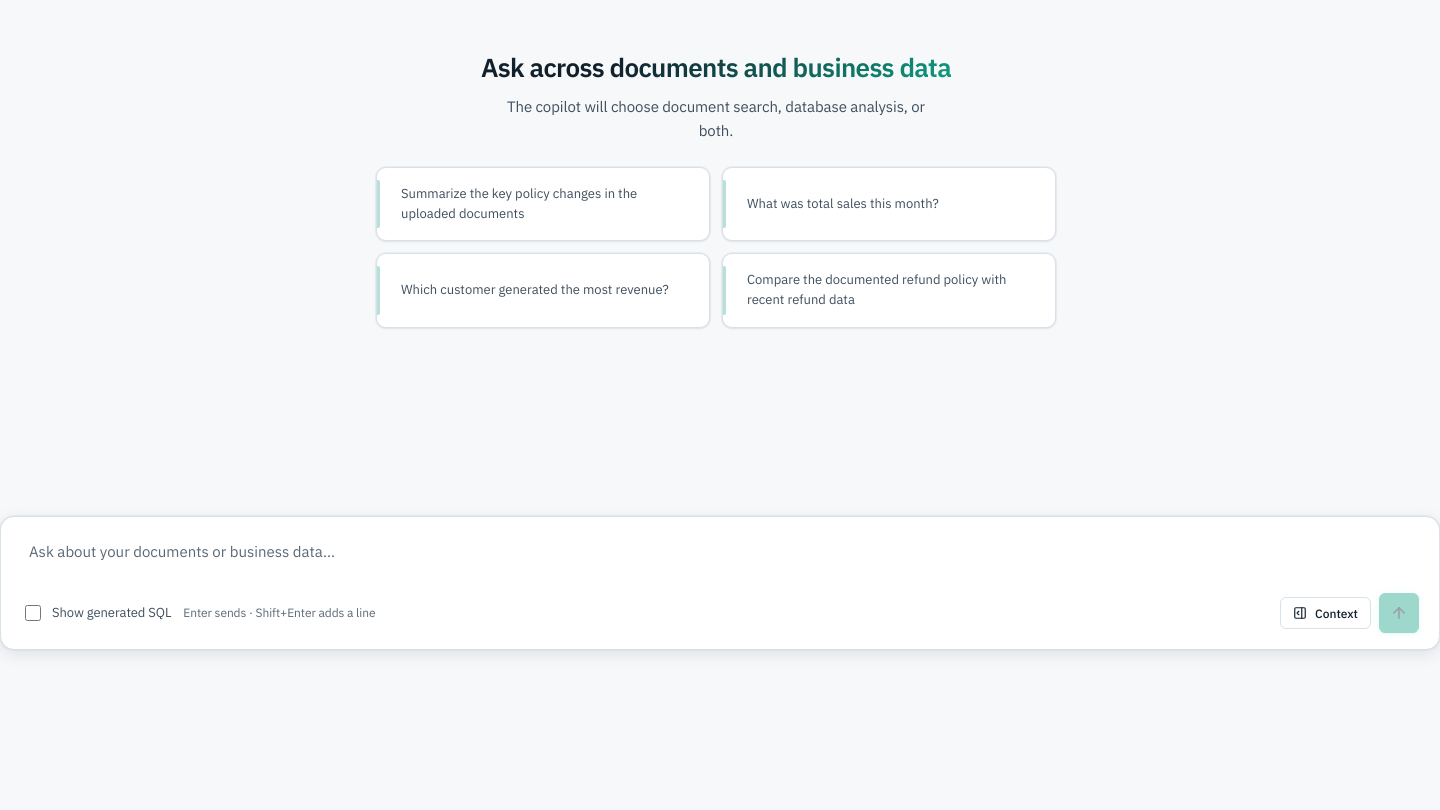
it: CopilotPage › renders an answer delivered via the real terminal event (kind=answer)
This screenshot has width=1440, height=810.
Type "sales?" into the text box labelled "Ask about your documents or business data…". click: (720, 557)
box: x1=21 y1=533 x2=1419 y2=581
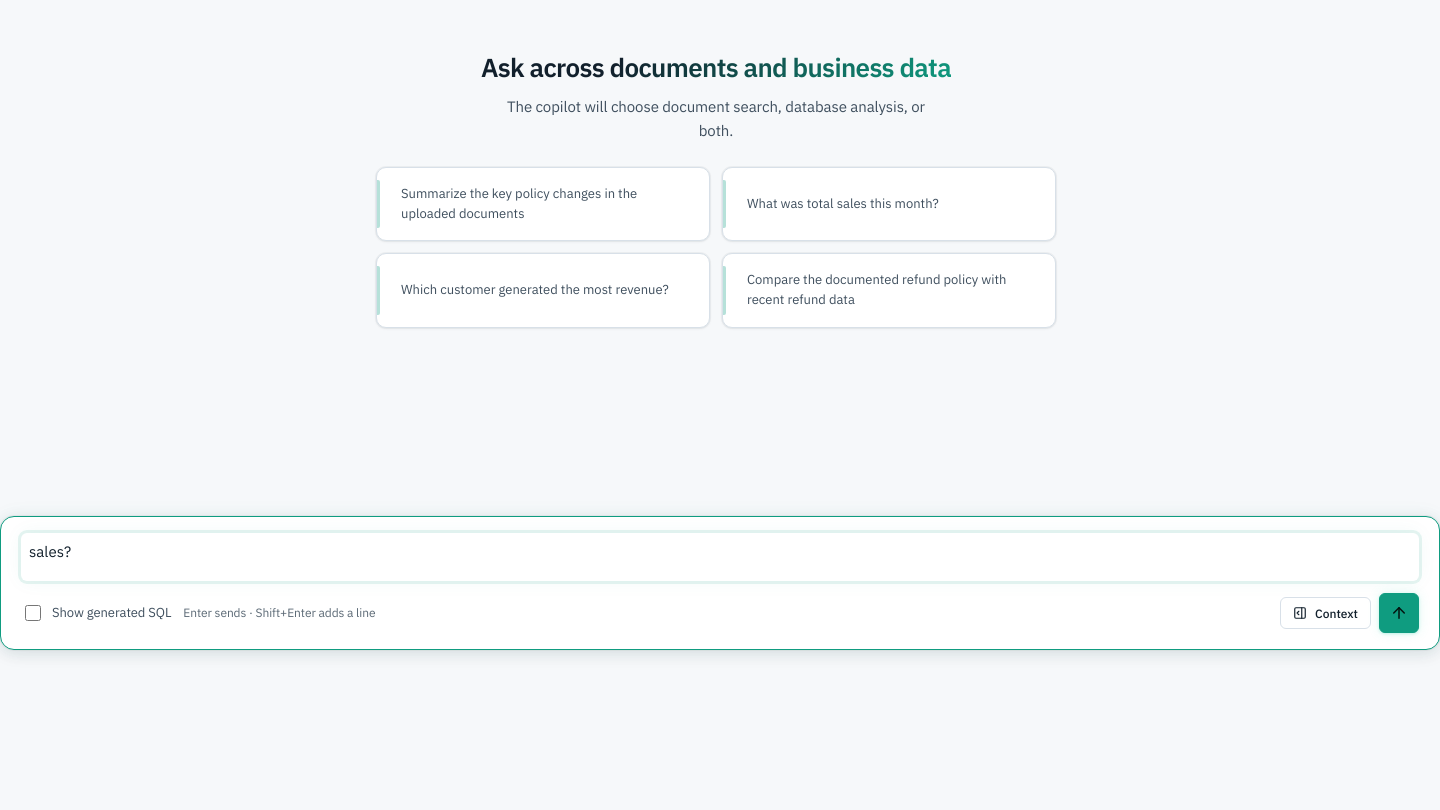
Click the button named "send question". click: (1399, 613)
box: x1=1379 y1=593 x2=1419 y2=633
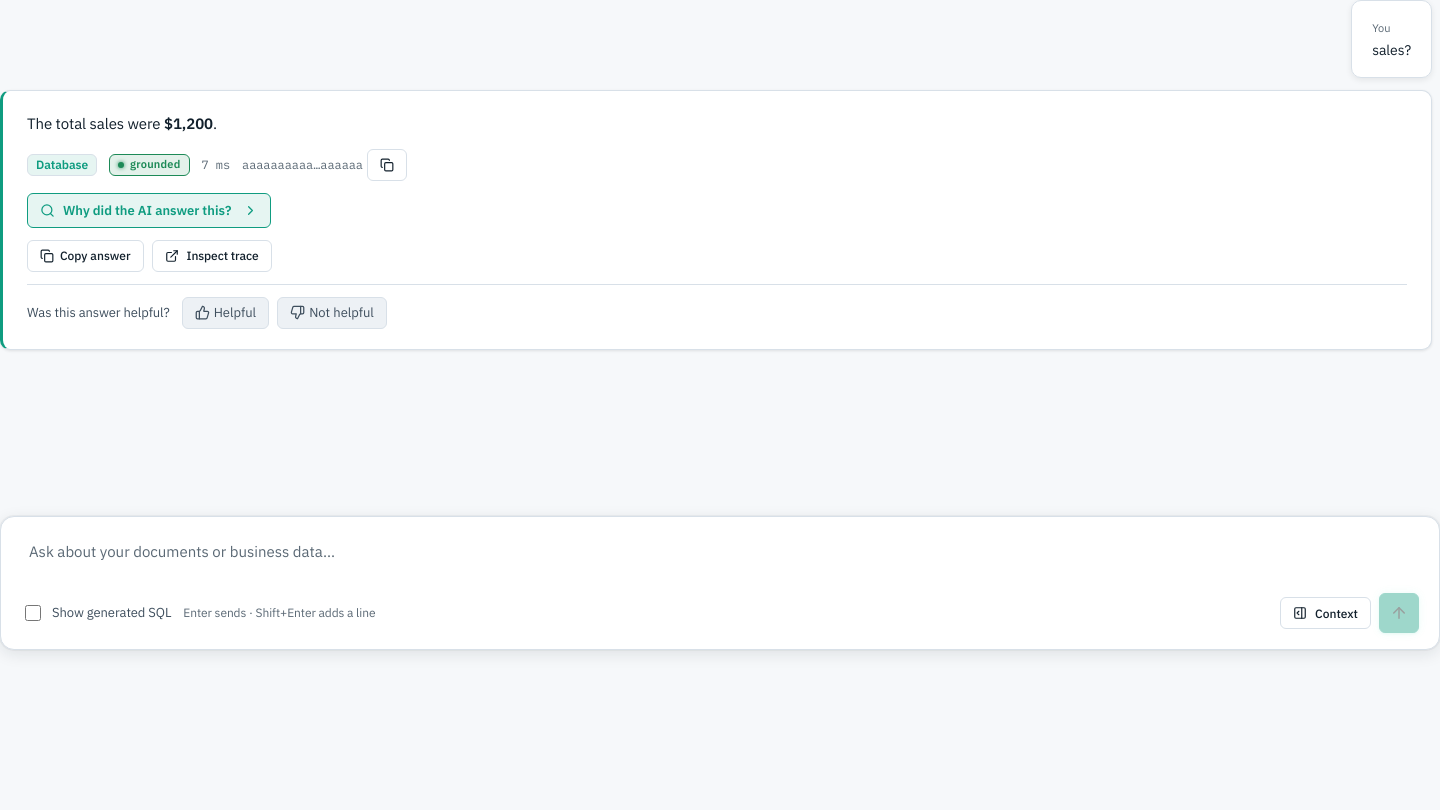
Now the text "The total sales were $1,200." is shown, box x1=27 y1=114 x2=217 y2=133
